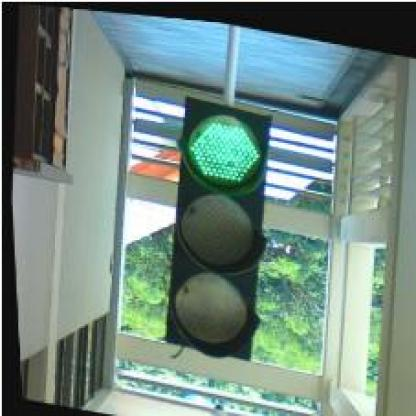green: (146, 89, 283, 364)
